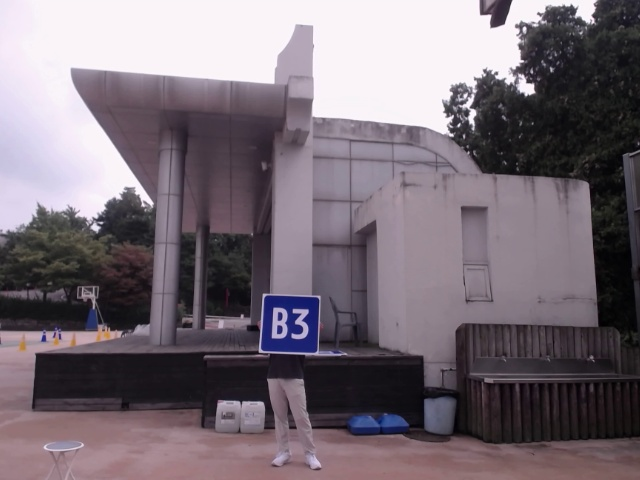delivery_b3: (260, 295, 319, 353)
